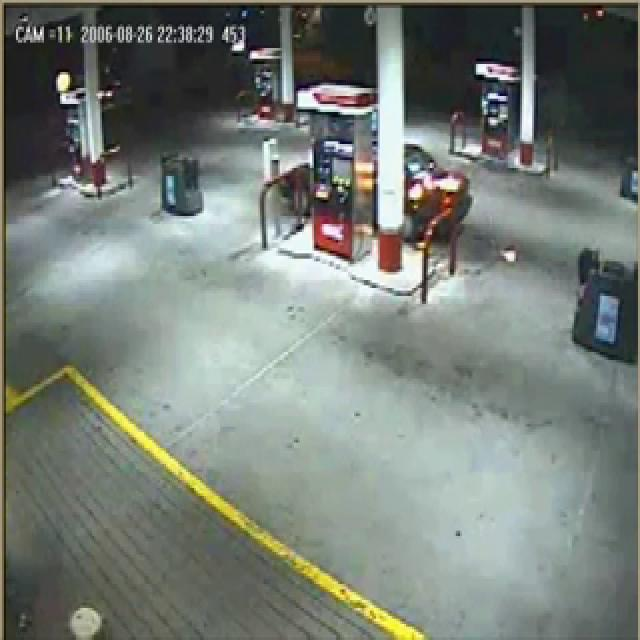explosion: (226, 0, 566, 419)
